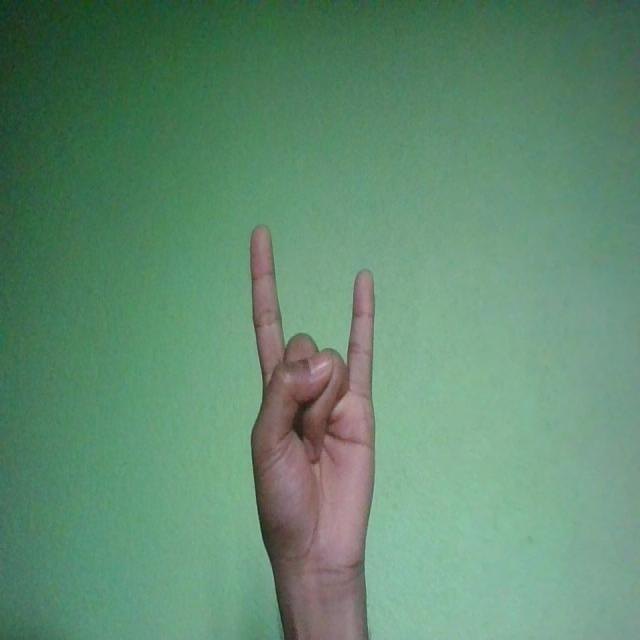open Plam: (249, 227, 376, 583)
